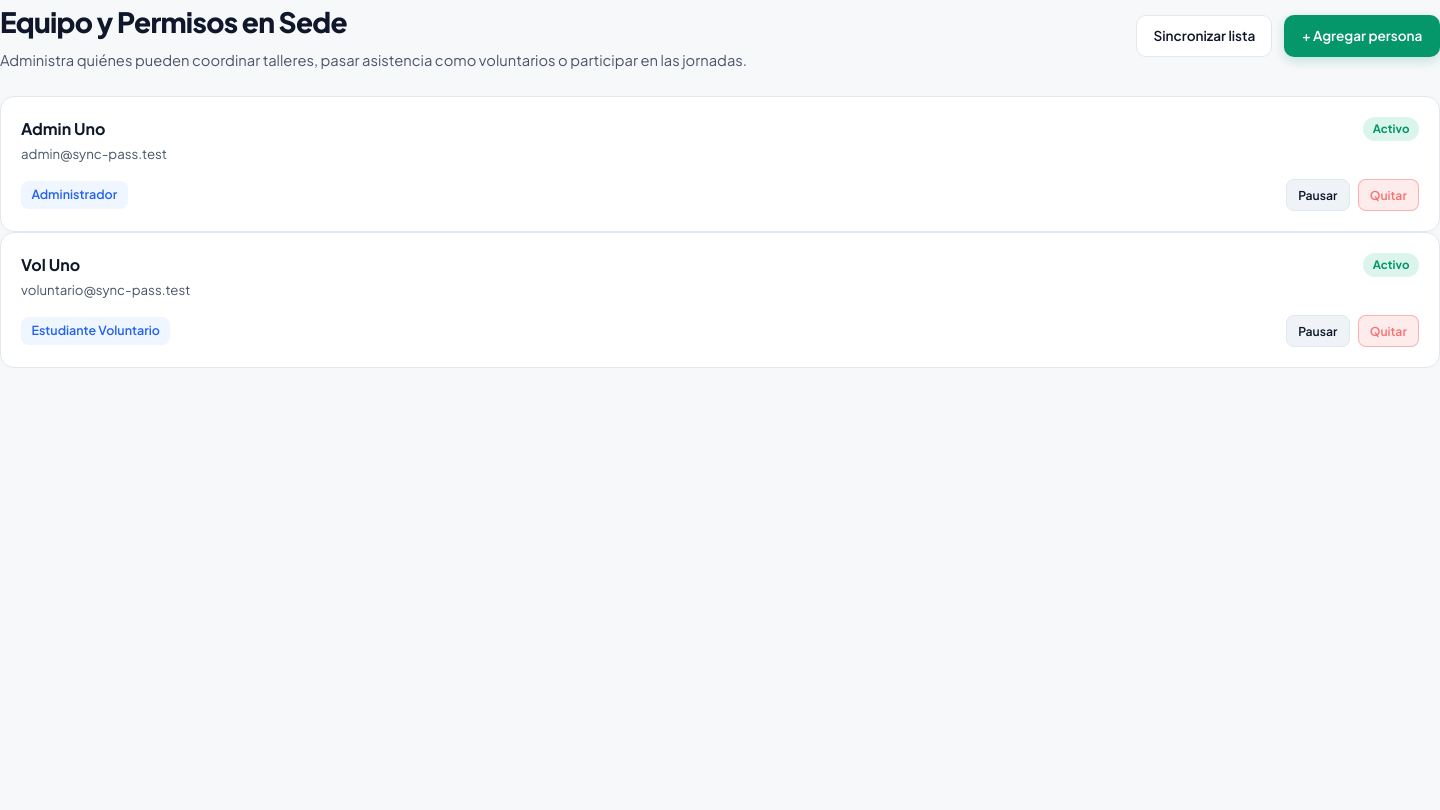
it: UsersPage › pide el token, muestra usuarios con Bearer y permite crear, pausar y eliminar cuentas
Expected: the text "admin@sync-pass.test" is shown, [21,144,167,165]
Expected: the text "voluntario@sync-pass.test" is shown, [21,280,190,301]
Note: Crear nuevo usuario en modal
Click the button "+ Agregar persona". click: (1362, 36)
box: [1284,15,1439,57]
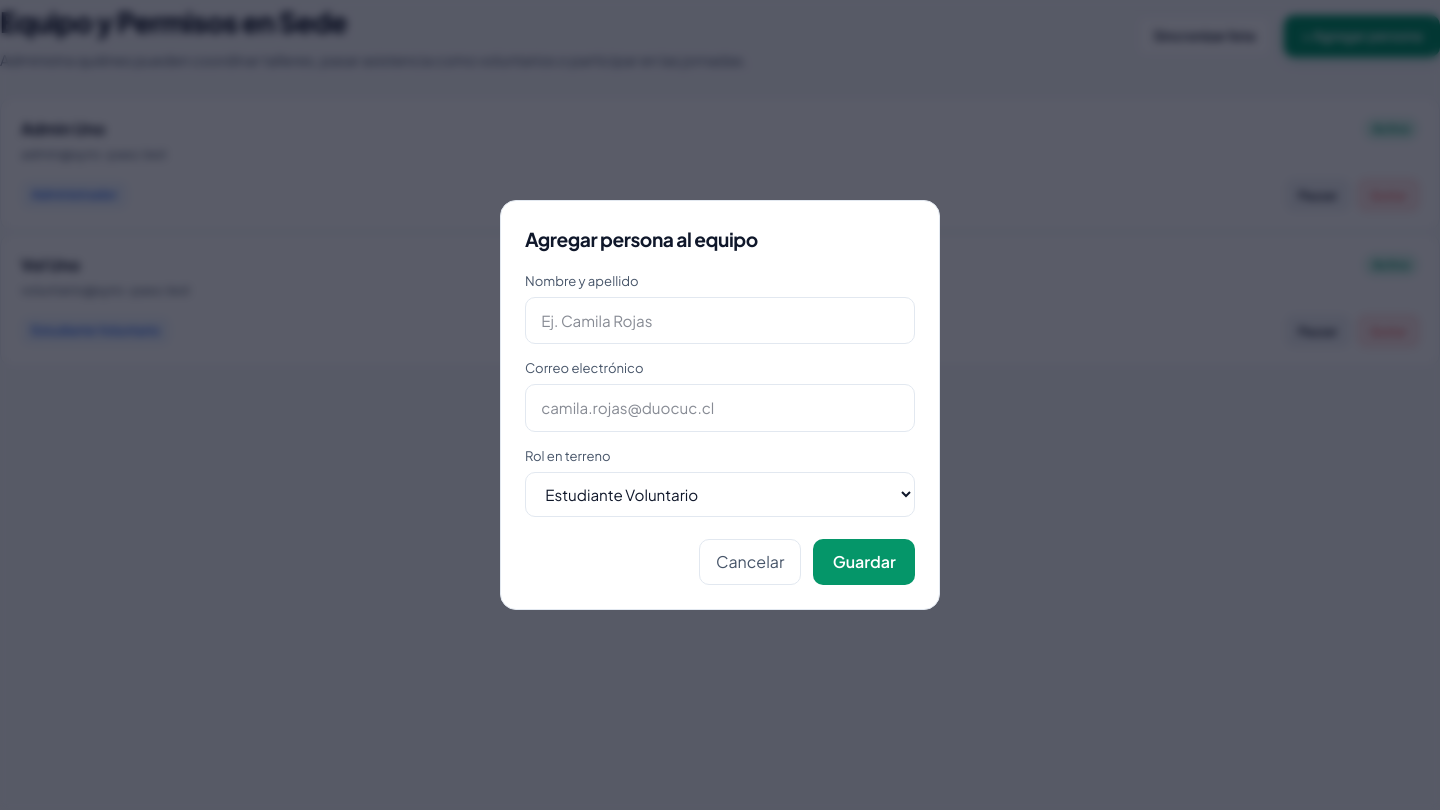
Type "Camila Rojas" into the field with placeholder "Ej. Camila Rojas". click: (720, 320)
box: [525,297,915,344]
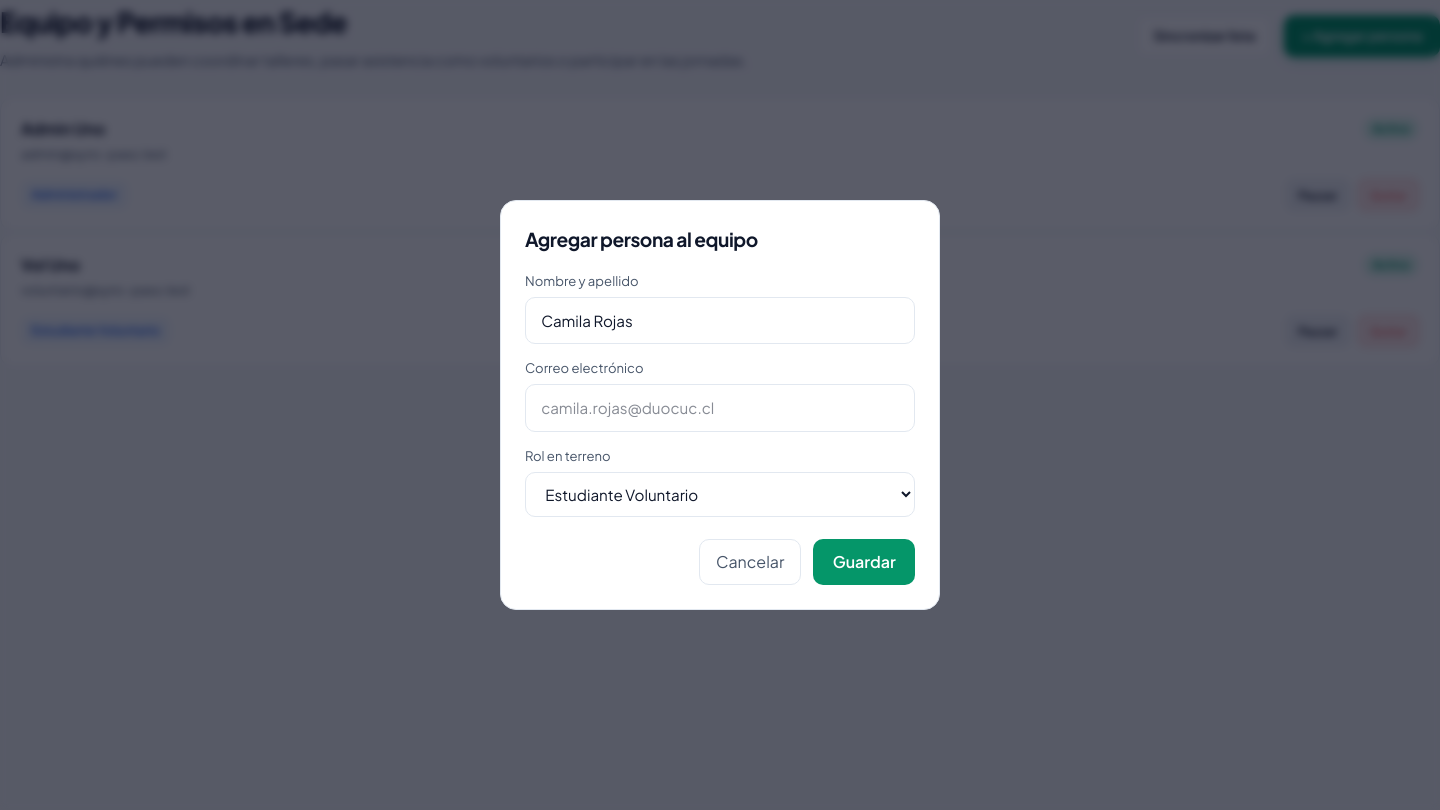
Type "camila@duocuc.cl" into the field with placeholder "camila.rojas@duocuc.cl". click: (720, 408)
box: [525,384,915,432]
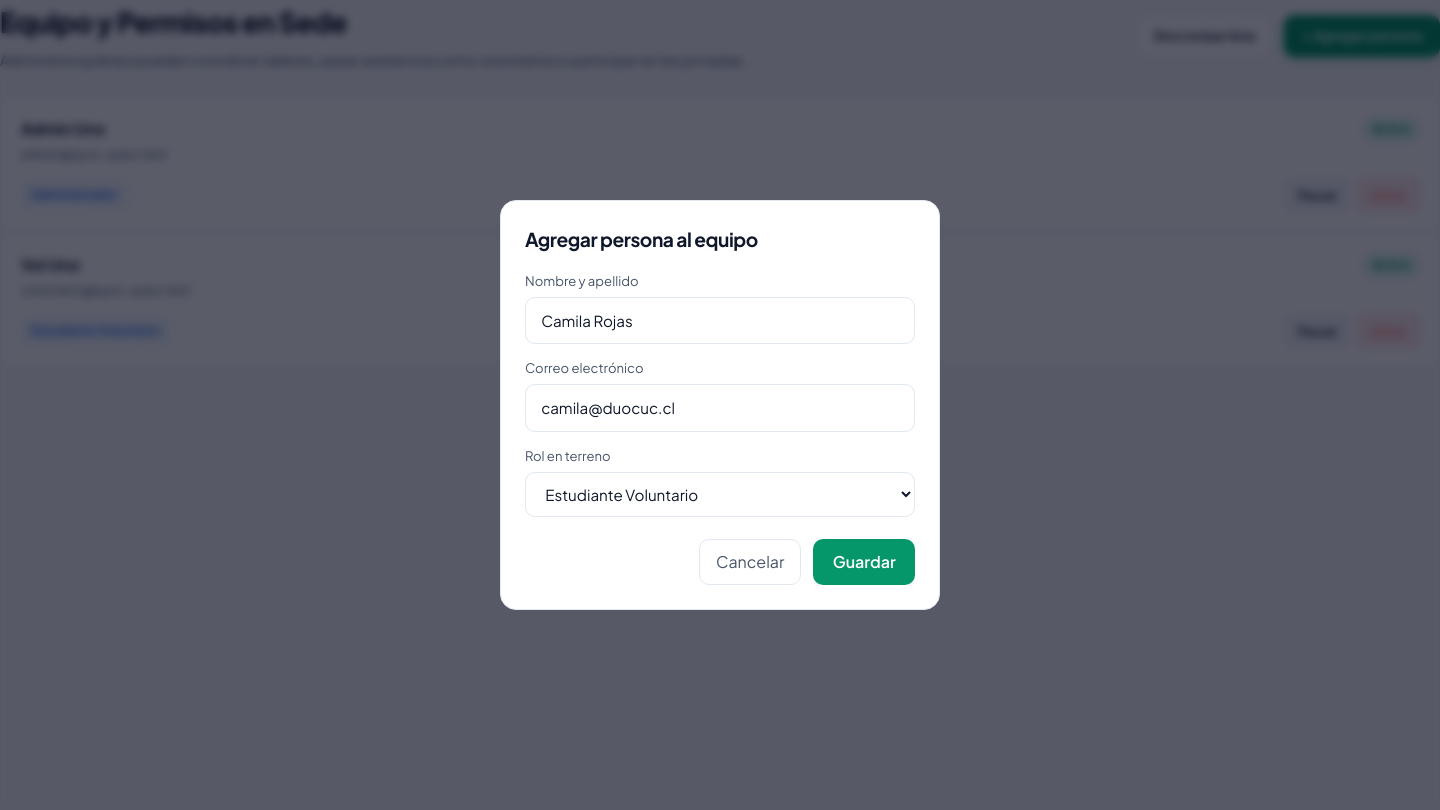
Click the button "Guardar". click: (864, 562)
box: [813,539,915,585]
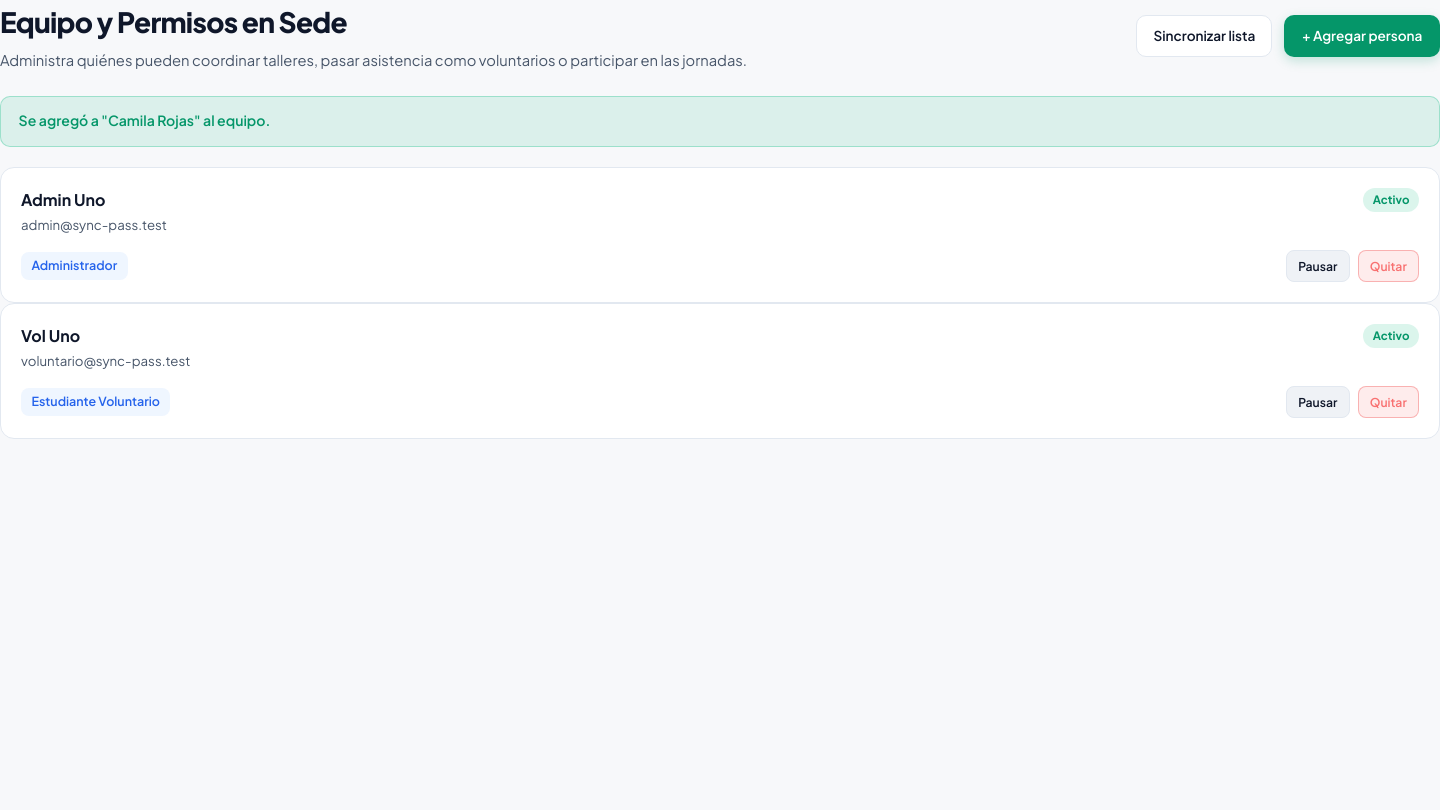
Expected: the text "Se agregó a \"Camila Rojas\" al equipo." is shown, [0,96,1439,147]
Note: Pausar y quitar usuario
Click the button "Pausar" in the row of "Administrador". click: (1318, 266)
box: [1286,250,1350,282]
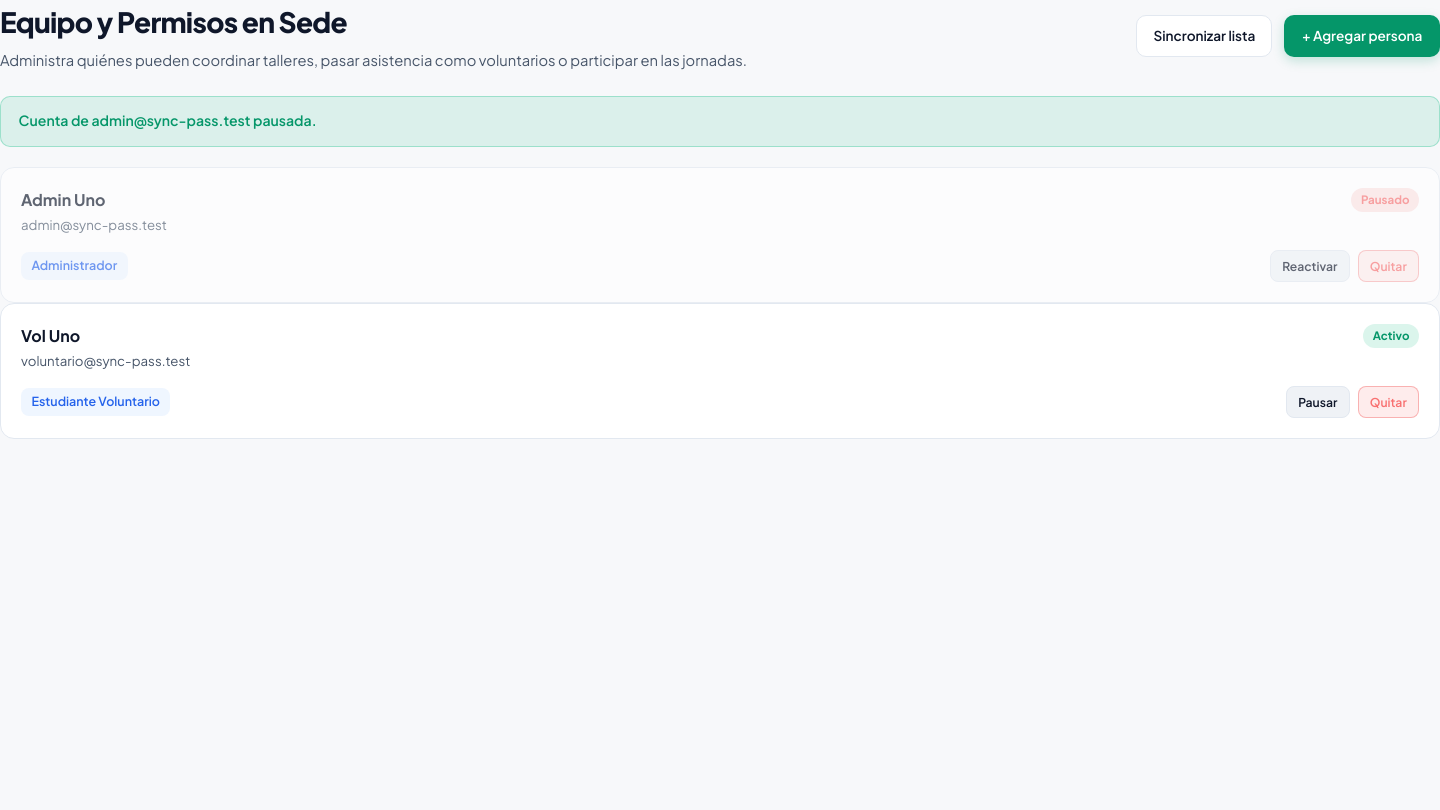
Expected: the text "Cuenta de admin@sync-pass.test pausada." is shown, [0,96,1439,147]
Click the button "Quitar" in the row of "Administrador". click: (1388, 266)
box: [1358,250,1419,282]
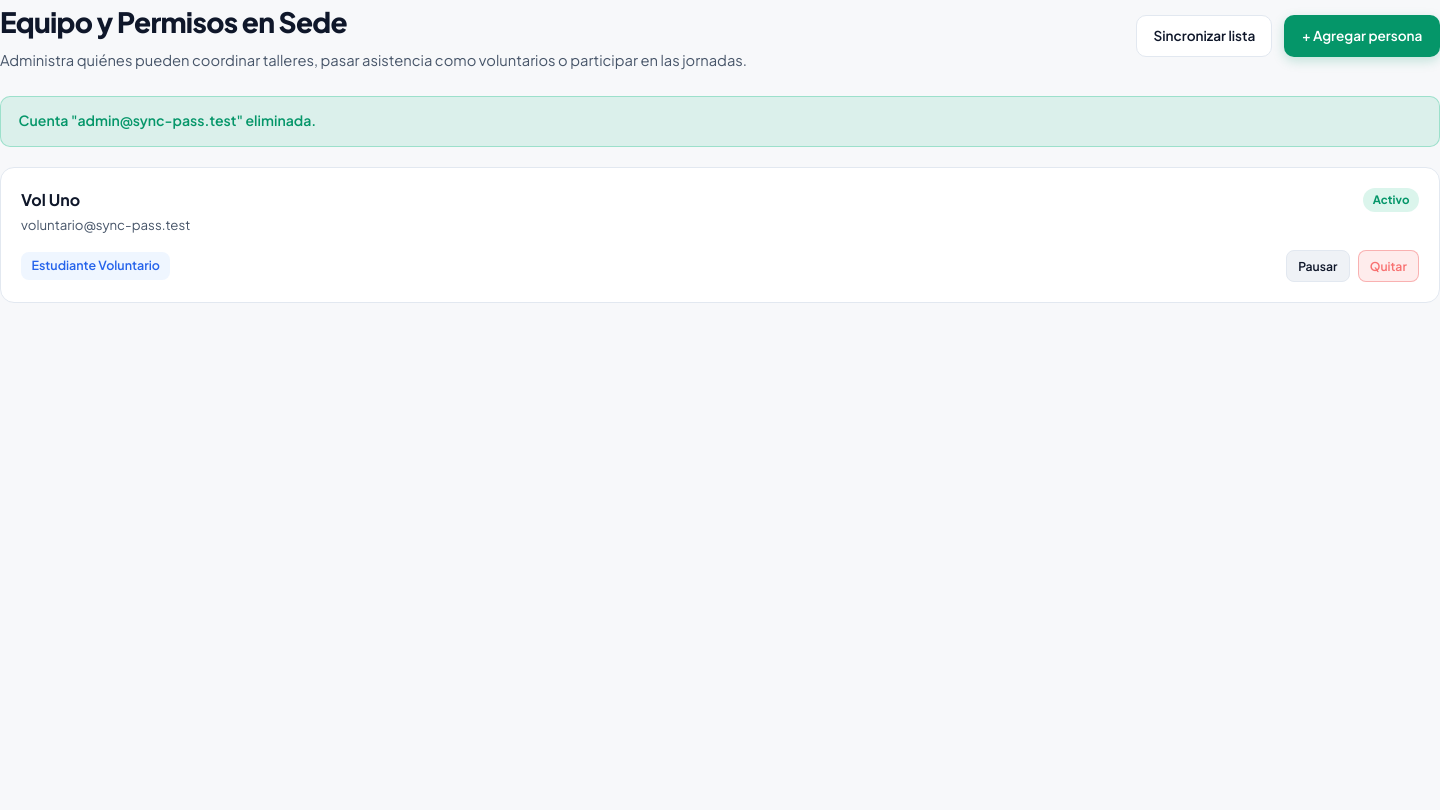
Expected: the text "Cuenta \"admin@sync-pass.test\" eliminada." is shown, [0,96,1439,147]
